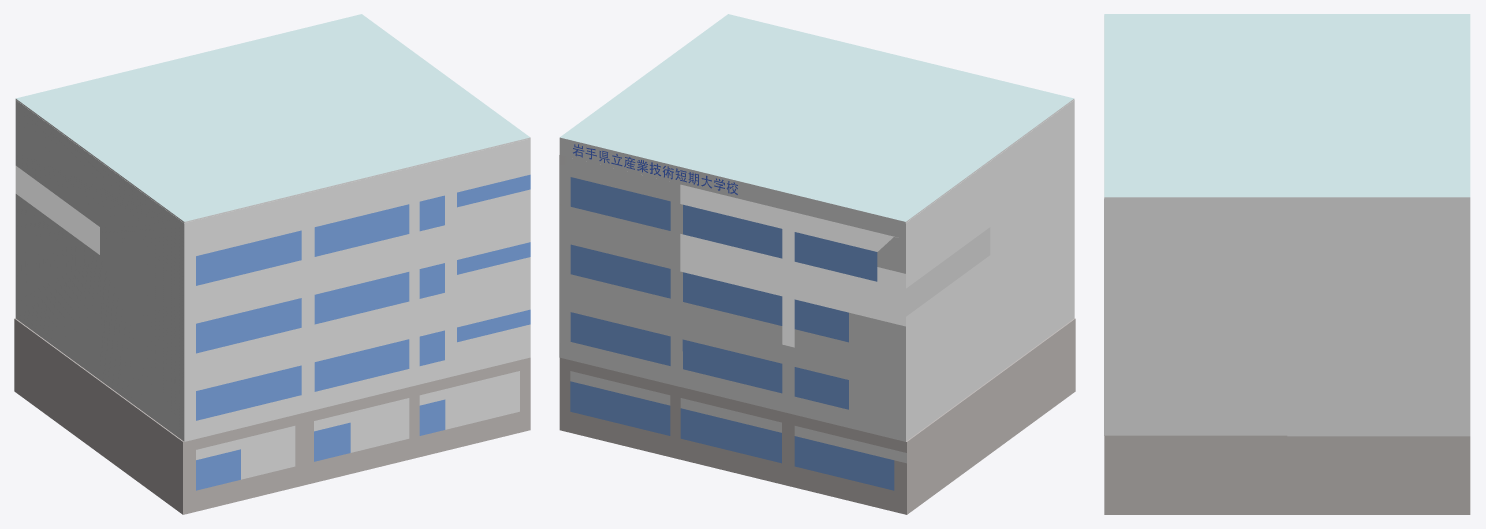
File: densi.glb
3 views of the same model, side by side, from view 1: azimuth 30°, elevation 25°; view 2: azimuth 150°, elevation 25°; view 3: azimuth 270°, elevation 25° (orthographic). The views are drawn at different scales.
Visible parts, largest first — view 1: 本校舎2F・土台.001, 立方体.036, 本校舎1F・土台.001; view 2: 本校舎2F・土台.001, 立方体.036, 本校舎1F・土台.001, ラウンジ・土台, 岩手県立産業技術短期大学校・側面; view 3: 立方体.036, 本校舎2F・土台.001, ラウンジ・土台, 本校舎1F・土台.001.
Boxes of the visible parts, x1,y1,x2,y2 form: 本校舎2F・土台.001: (15, 100, 530, 441); 立方体.036: (15, 14, 530, 222); 本校舎1F・土台.001: (14, 318, 530, 514); 本校舎2F・土台.001: (680, 100, 1074, 441); 立方体.036: (559, 14, 1074, 239); 本校舎1F・土台.001: (559, 318, 1075, 514); ラウンジ・土台: (559, 155, 680, 386); 岩手県立産業技術短期大学校・側面: (573, 144, 737, 194); 立方体.036: (1104, 14, 1470, 216); 本校舎2F・土台.001: (1104, 15, 1287, 435); ラウンジ・土台: (1287, 216, 1470, 436); 本校舎1F・土台.001: (1104, 435, 1470, 514).
Bounding box in the file's own units: 5.93 × 4.77 × 5.01.
2 materials, 2 textured.
